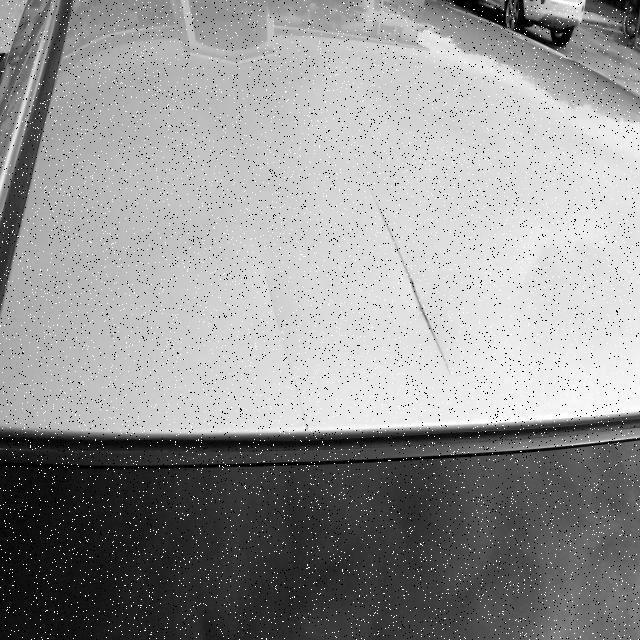roof-dent: (6, 1, 394, 640), (342, 1, 638, 640)
